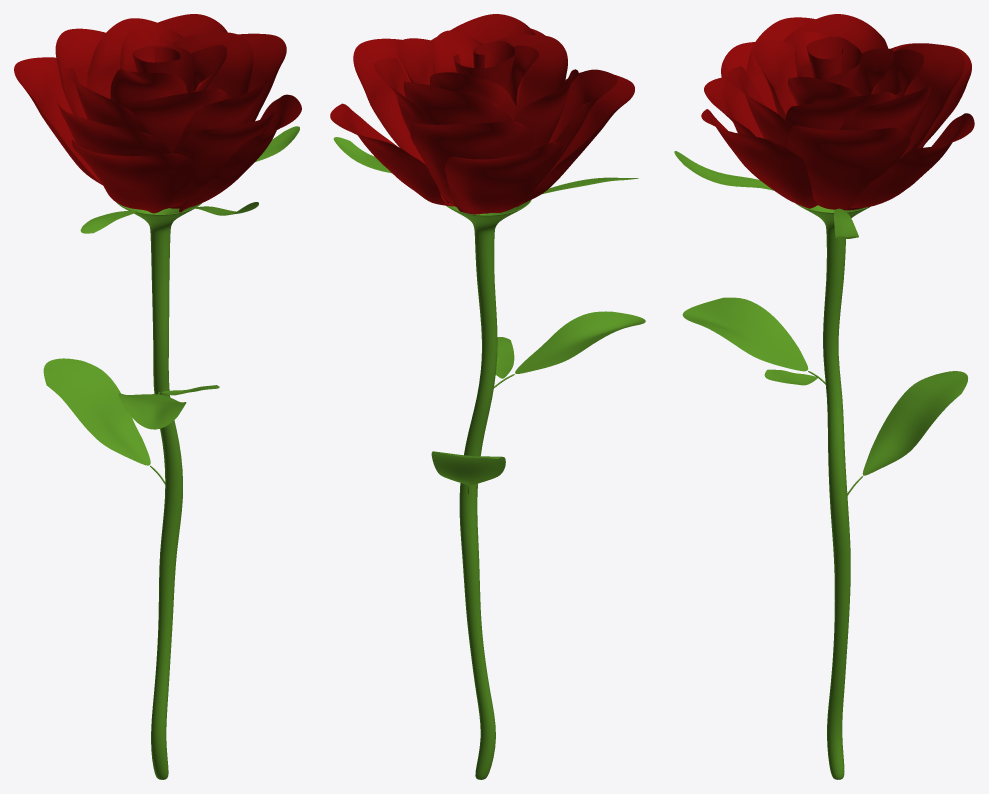
File: Rose.fbx
The picture shows the model from 3 angles, left to right: view 1: azimuth 30°, elevation 25°; view 2: azimuth 150°, elevation 25°; view 3: azimuth 270°, elevation 25°; orthographic projection.
Parts seen in each view (by area): view 1: Rose3; view 2: Rose3; view 3: Rose3.
Boxes of the visible parts, box(x1,y1,x2,y2) form: Rose3: box(14, 14, 301, 779); Rose3: box(330, 14, 645, 779); Rose3: box(674, 14, 974, 779).
Size of the model in its own units: 0.7095 by 1.89 by 0.707.
